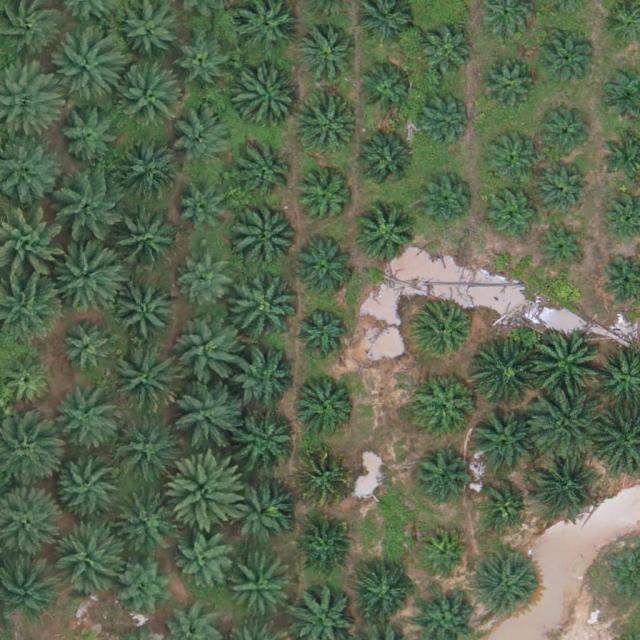Healthy: (169, 454, 247, 533), (170, 378, 241, 449), (533, 390, 603, 461), (109, 345, 180, 415), (49, 387, 119, 458), (54, 449, 124, 520), (532, 330, 602, 401), (470, 341, 540, 412), (233, 200, 303, 271), (229, 272, 300, 342), (109, 208, 179, 279), (56, 35, 126, 106), (57, 174, 127, 245), (112, 415, 182, 485), (52, 523, 122, 593), (117, 64, 187, 134), (54, 240, 124, 310), (175, 319, 245, 389), (470, 409, 533, 472), (295, 373, 358, 436), (237, 410, 300, 473), (114, 491, 177, 554), (115, 554, 178, 617), (354, 132, 417, 195), (235, 69, 298, 132), (475, 556, 538, 618), (234, 352, 297, 414), (229, 558, 291, 621), (355, 204, 417, 267), (298, 97, 360, 160), (294, 239, 356, 302), (116, 281, 178, 344), (57, 101, 119, 164), (532, 456, 594, 518), (415, 374, 477, 436), (228, 477, 290, 539), (414, 302, 476, 364), (237, 142, 299, 204), (175, 107, 237, 169), (117, 142, 179, 204), (413, 447, 468, 502), (358, 569, 413, 624), (419, 26, 474, 81), (414, 90, 469, 145), (418, 174, 473, 229), (487, 185, 542, 240), (478, 58, 533, 113), (539, 29, 594, 84), (538, 160, 593, 215), (359, 61, 414, 116), (302, 26, 357, 81), (299, 173, 354, 228), (294, 306, 349, 361), (177, 38, 232, 93), (177, 190, 232, 245), (180, 256, 235, 311), (61, 322, 116, 377), (297, 518, 351, 573), (177, 533, 231, 588), (485, 132, 539, 187), (538, 108, 592, 163)
Small: (539, 220, 586, 268), (421, 528, 468, 576), (480, 482, 527, 529)
Yellow: (295, 451, 350, 506)
